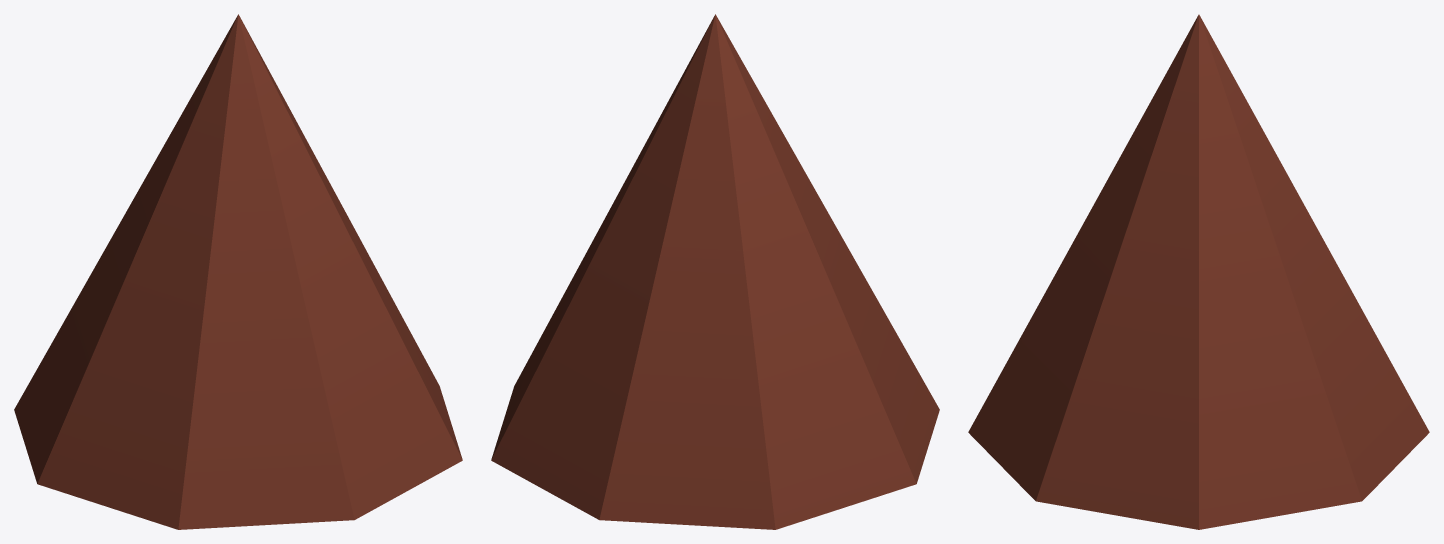
File: Proxy_Spire_Tiles.gltf
The picture shows the model from 3 angles, left to right: view 1: azimuth 30°, elevation 25°; view 2: azimuth 150°, elevation 25°; view 3: azimuth 270°, elevation 25°; orthographic projection.
Parts seen in each view (by area): view 1: Spire_Tiles; view 2: Spire_Tiles; view 3: Spire_Tiles.
Boxes of the visible parts, x1,y1,x2,y2 form: Spire_Tiles: [14, 14, 462, 529]; Spire_Tiles: [491, 14, 939, 529]; Spire_Tiles: [968, 14, 1429, 529].
Size of the model in its own units: 1 by 1 by 1.
